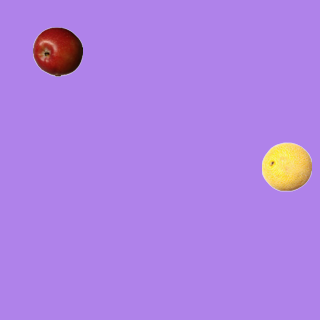Apple Braeburn: (32, 26, 82, 76)
Cantaloupe 1: (261, 141, 311, 191)
